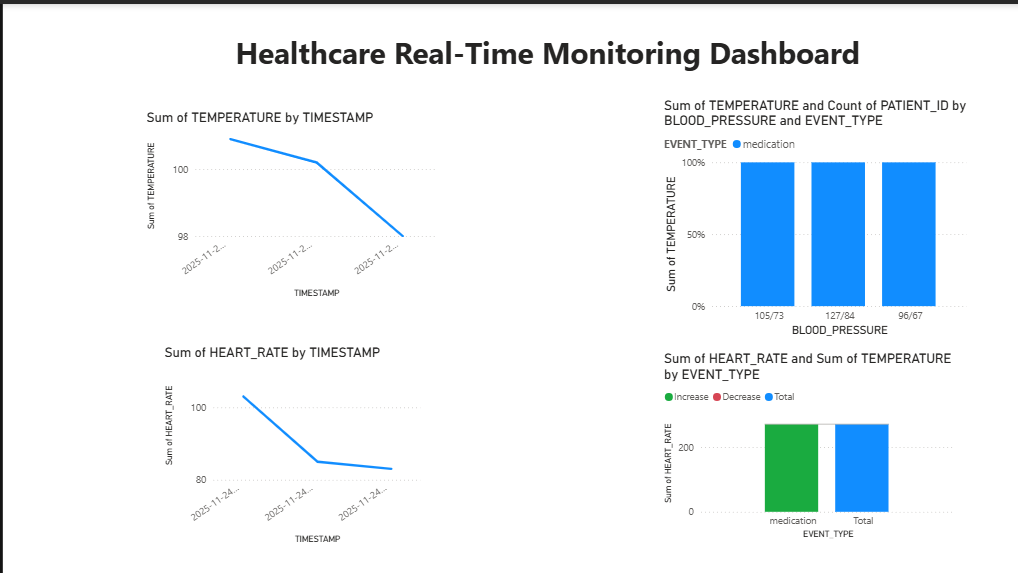

The dashboard page shown, as its layout file describes it:
{"tool":"powerbi","page":{"name":"Page 1","canvas":[1280,720],"ordinal":0},"visuals":[{"type":"lineChart","fields":{"Category":["HEALTHCARE_VITALS.TIMESTAMP"],"Y":["Sum(HEALTHCARE_VITALS.HEART_RATE)"]},"box":[198.4,429,332.6,255.1],"z":0},{"type":"lineChart","fields":{"Category":["HEALTHCARE_VITALS.TIMESTAMP"],"Y":["Sum(HEALTHCARE_VITALS.TEMPERATURE)"]},"box":[175.7,132.3,376.1,241.9],"z":1},{"type":"hundredPercentStackedColumnChart","fields":{"Category":["HEALTHCARE_VITALS.BLOOD_PRESSURE"],"Y":["Sum(HEALTHCARE_VITALS.TEMPERATURE)"],"Series":["HEALTHCARE_VITALS.EVENT_TYPE"]},"box":[827.7,117.2,391.2,306.1],"z":2},{"type":"waterfallChart","fields":{"Y":["Sum(HEALTHCARE_VITALS.HEART_RATE)"],"Category":["HEALTHCARE_VITALS.EVENT_TYPE"]},"box":[827.7,436.5,376.1,241.9],"z":4},{"type":"textbox","box":[219.2,30.2,933.6,86.9],"z":5}]}

Visuals, with their boxes in screenshot pixels (x1, y1, x2, y2), scaled from the page's 1280x720 canvas onto the 1018x573 screenshot:
lineChart - HEALTHCARE_VITALS.TIMESTAMP x Sum(HEALTHCARE_VITALS.HEART_RATE): detection(158, 341, 422, 544)
lineChart - HEALTHCARE_VITALS.TIMESTAMP x Sum(HEALTHCARE_VITALS.TEMPERATURE): detection(140, 105, 439, 298)
hundredPercentStackedColumnChart - HEALTHCARE_VITALS.BLOOD_PRESSURE x Sum(HEALTHCARE_VITALS.TEMPERATURE): detection(658, 93, 969, 337)
waterfallChart - Sum(HEALTHCARE_VITALS.HEART_RATE) x HEALTHCARE_VITALS.EVENT_TYPE: detection(658, 347, 957, 540)
textbox: detection(174, 24, 917, 93)
